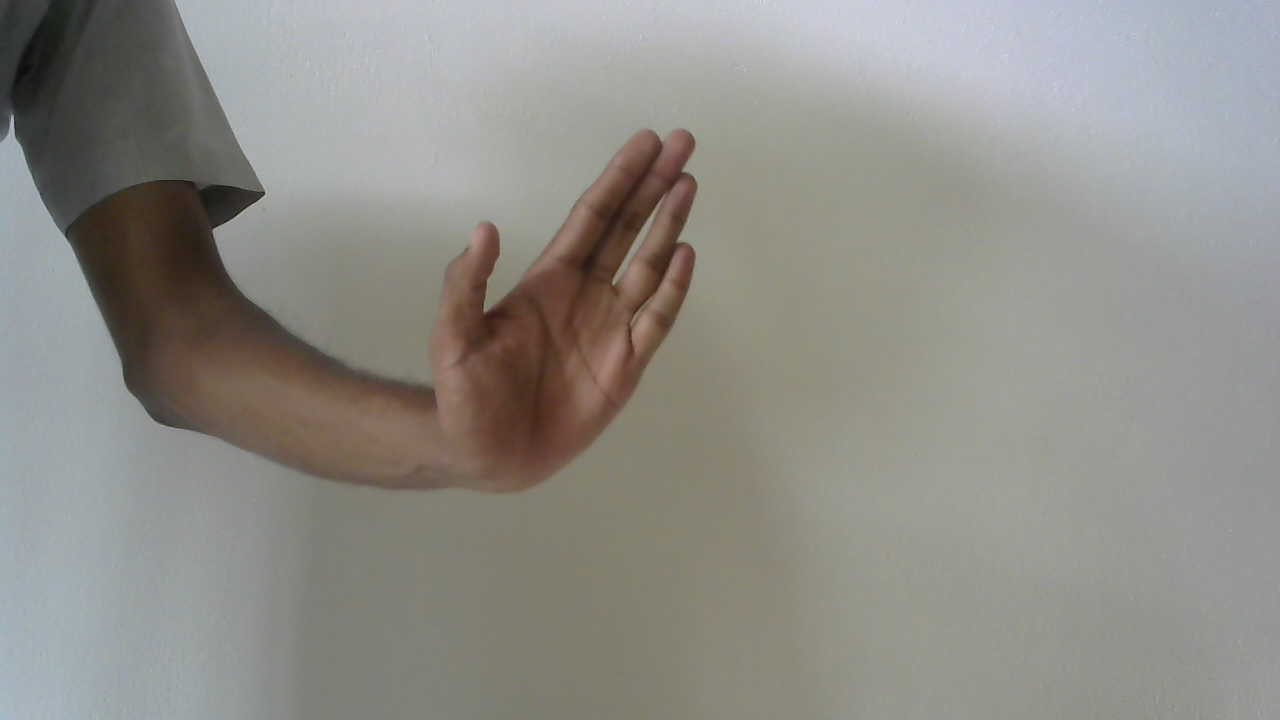hello: (425, 120, 706, 498)
